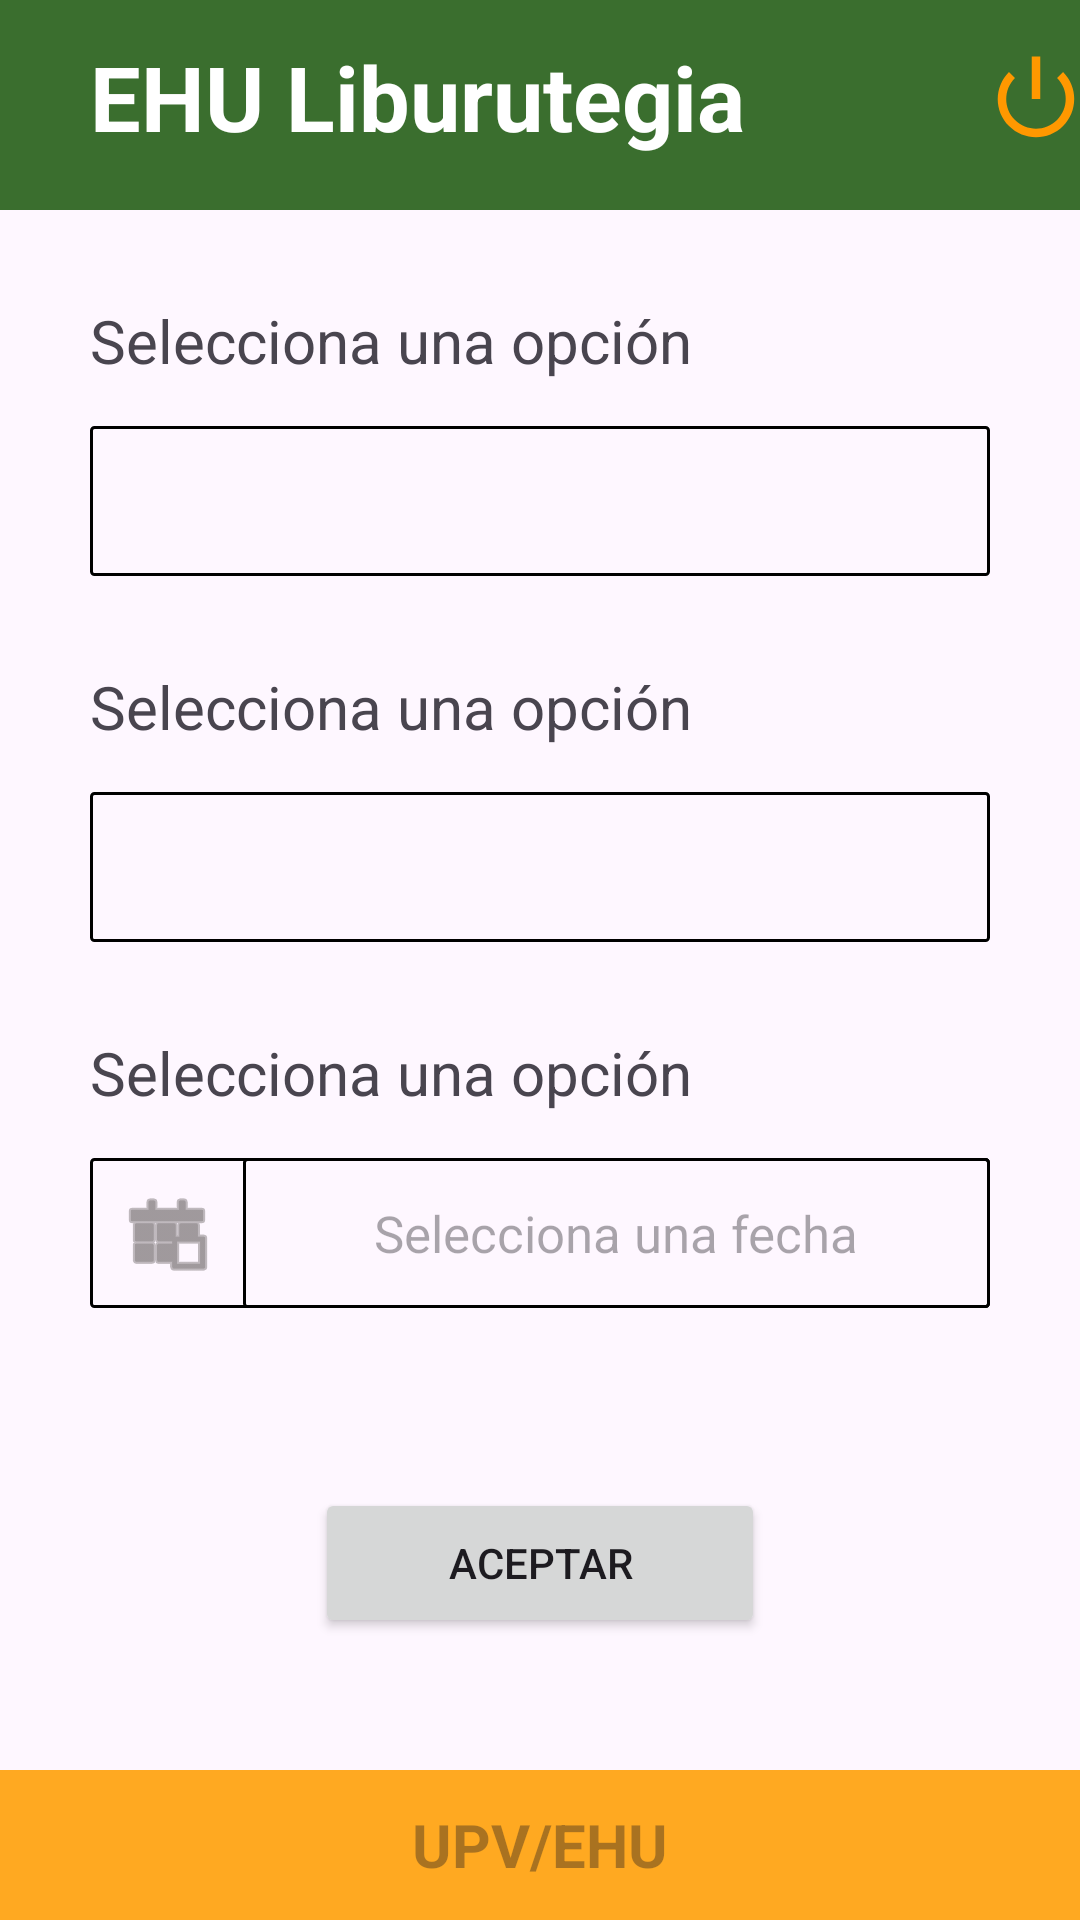

Icon bounding boxes for this 1080x1920 phone screenshot, format (x1, y1, x2, y2):
lock power off: (997, 56, 1075, 138)
today: (129, 1198, 207, 1271)
